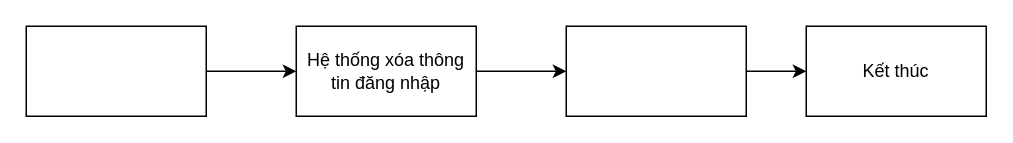
Image size: 1013x143. Some labels were removed from this diagram. Here are the shapes that lost their labels. From the top down, the centre of each, then its label:
[115,70]: Khách hàng chọn đăng xuất
[655,70]: Chuyển về trang Login
